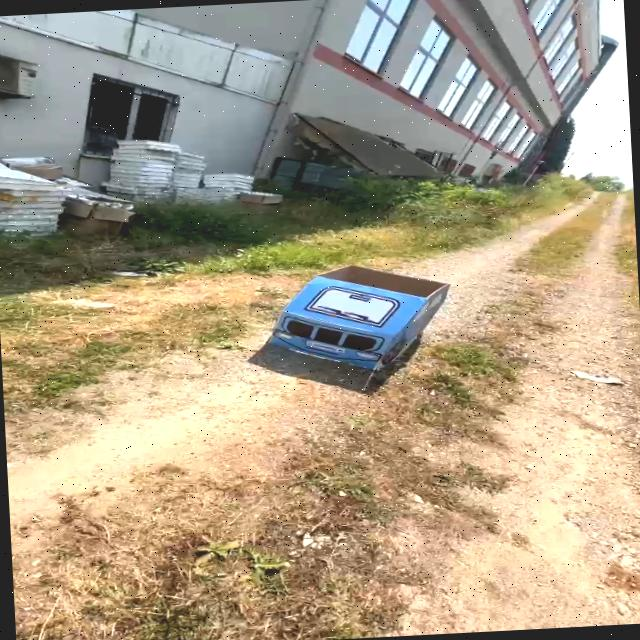blue_car: (250, 246, 472, 379)
